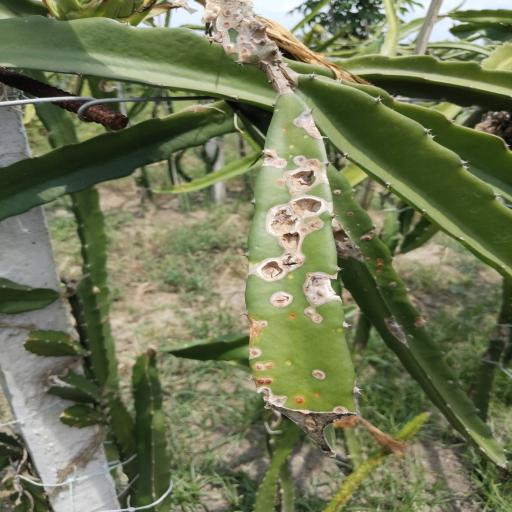stemcanker: (249, 349, 279, 371), (254, 318, 274, 330), (257, 375, 276, 387), (286, 143, 298, 160), (332, 327, 345, 339), (294, 396, 308, 407), (286, 272, 298, 283), (292, 395, 305, 405), (285, 357, 295, 369), (276, 178, 289, 187), (283, 124, 293, 134), (300, 130, 310, 140), (312, 393, 326, 400), (272, 108, 282, 116), (287, 314, 299, 320), (285, 360, 294, 368), (313, 390, 322, 398), (290, 313, 298, 322), (287, 274, 297, 280), (364, 256, 374, 262), (275, 107, 283, 114), (347, 210, 354, 218), (336, 329, 346, 334), (304, 134, 310, 142), (287, 154, 295, 160), (288, 144, 295, 150)
